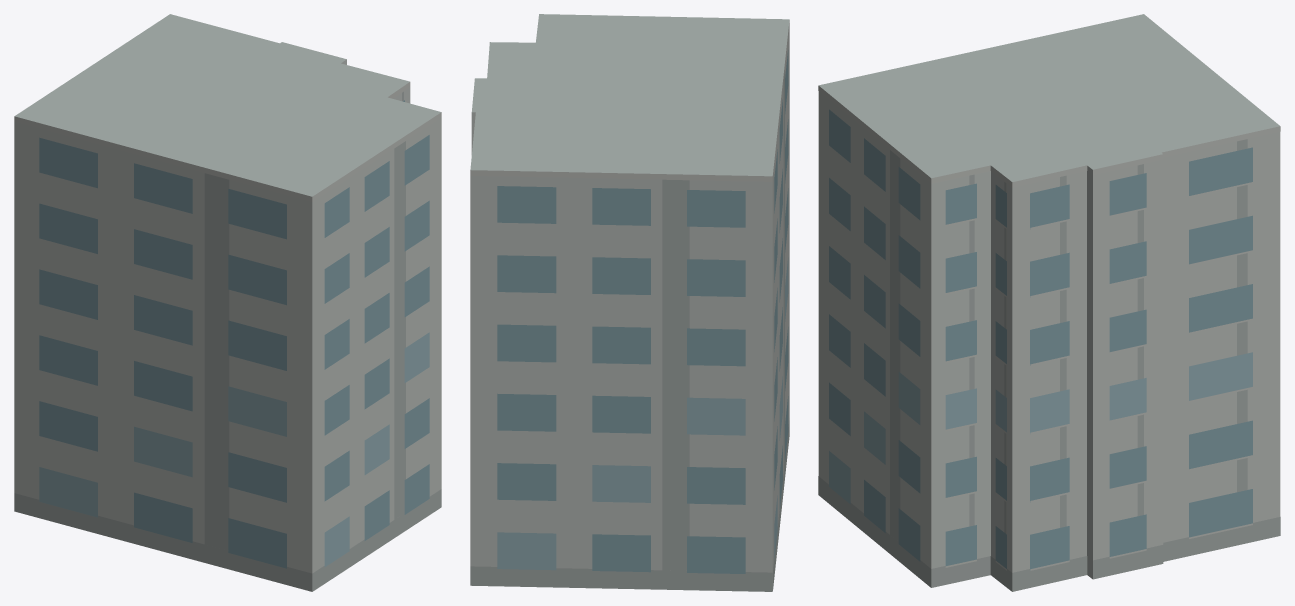
Rendered from survey-upis-32863828.glb.
3 views of the same model, side by side, from view 1: azimuth 30°, elevation 25°; view 2: azimuth 150°, elevation 25°; view 3: azimuth 270°, elevation 25° (orthographic). The views are drawn at different scales.
Parts seen in each view (by area): view 1: survey-upis-32863828.tmp; view 2: survey-upis-32863828.tmp; view 3: survey-upis-32863828.tmp.
Boxes of the visible parts, bbox=[...] form: survey-upis-32863828.tmp: bbox=[14, 14, 441, 591]; survey-upis-32863828.tmp: bbox=[470, 14, 789, 591]; survey-upis-32863828.tmp: bbox=[818, 14, 1280, 591].
Size of the model in its own units: 15.68 by 17.8 by 18.2.
